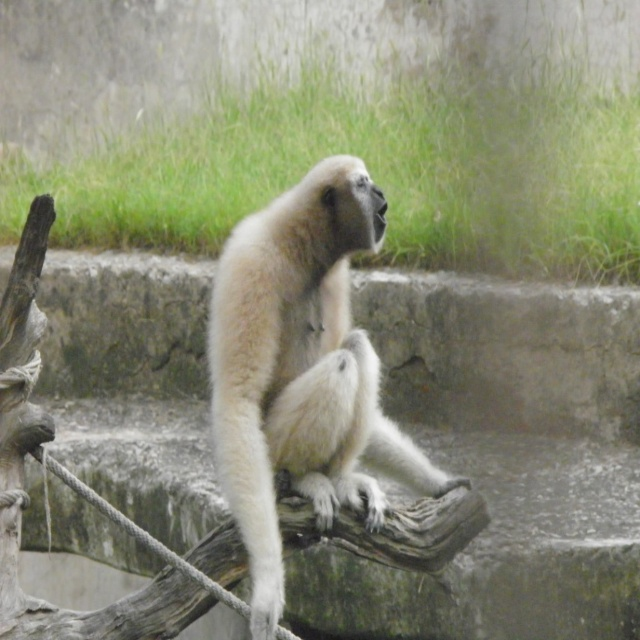Monkey: (206, 156, 472, 635)
